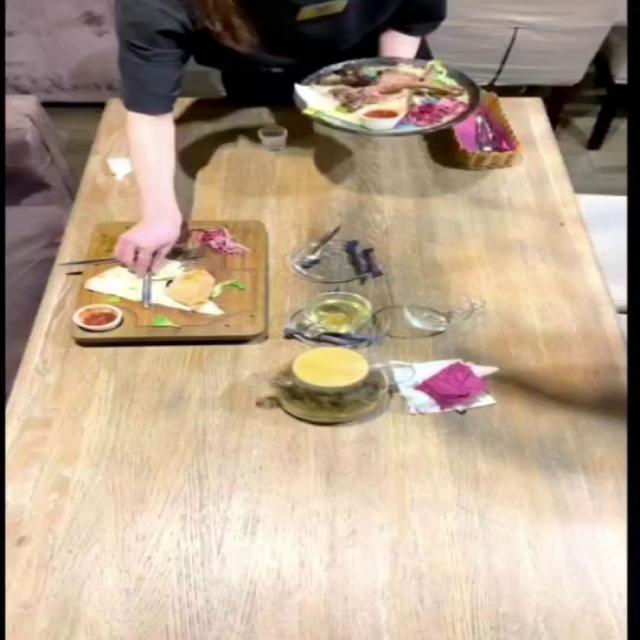meat: (65, 208, 275, 348), (298, 60, 470, 130)
tea: (280, 341, 430, 448)
